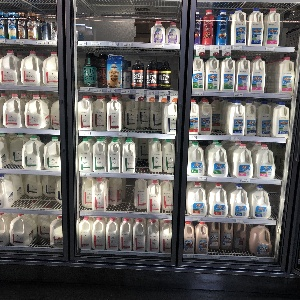void: (76, 6, 148, 43), (279, 4, 300, 50)
